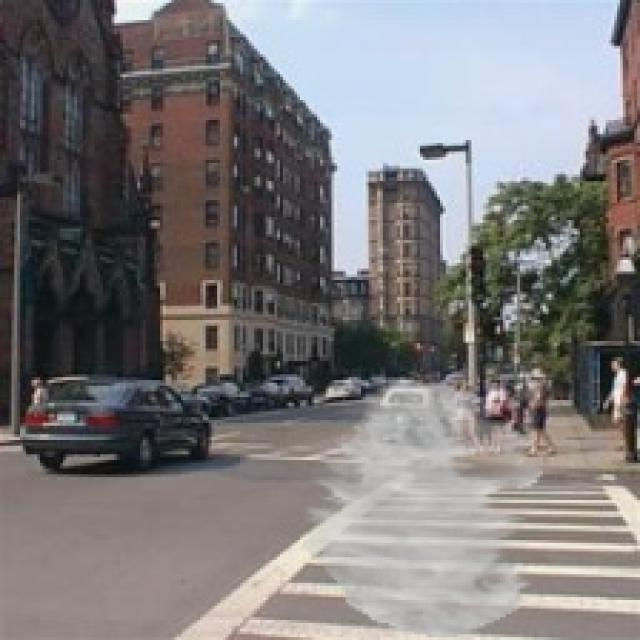smoke: (300, 380, 543, 637)
